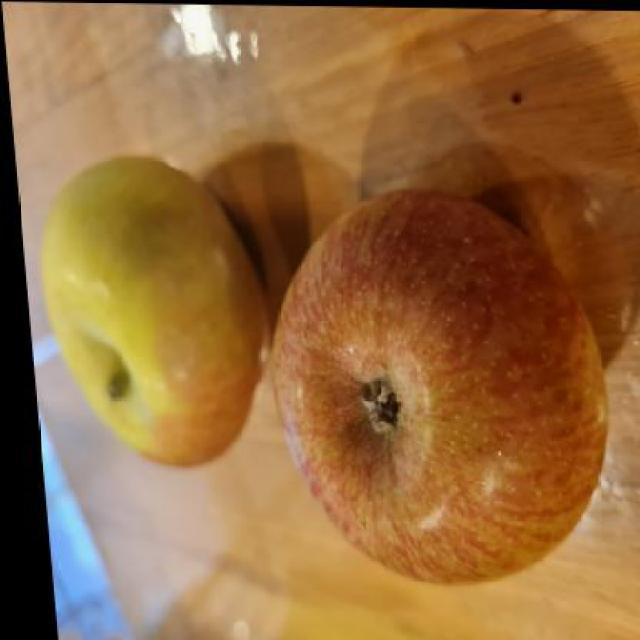Fresh Apple: (264, 190, 598, 562), (34, 152, 263, 470)
